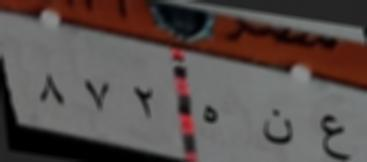2: (127, 81, 166, 123)
7: (80, 76, 119, 115)
8: (34, 74, 70, 108)
ain: (318, 108, 358, 162)
haa: (197, 97, 228, 132)
noon: (256, 104, 300, 150)
